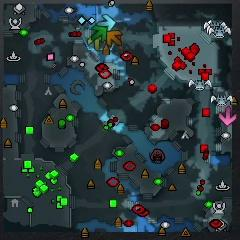x1: (219, 106, 237, 126)
x2: (88, 35, 105, 51)
x3: (98, 14, 116, 31)
x4: (91, 26, 107, 41)
x5: (107, 30, 122, 46)
